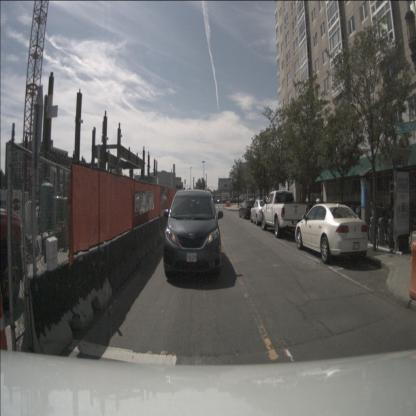barrier: (21, 243, 113, 364), (102, 229, 140, 296), (132, 221, 155, 269), (148, 216, 164, 252), (409, 238, 416, 301), (160, 210, 173, 242), (226, 200, 230, 206)
cone: (0, 292, 11, 366)
